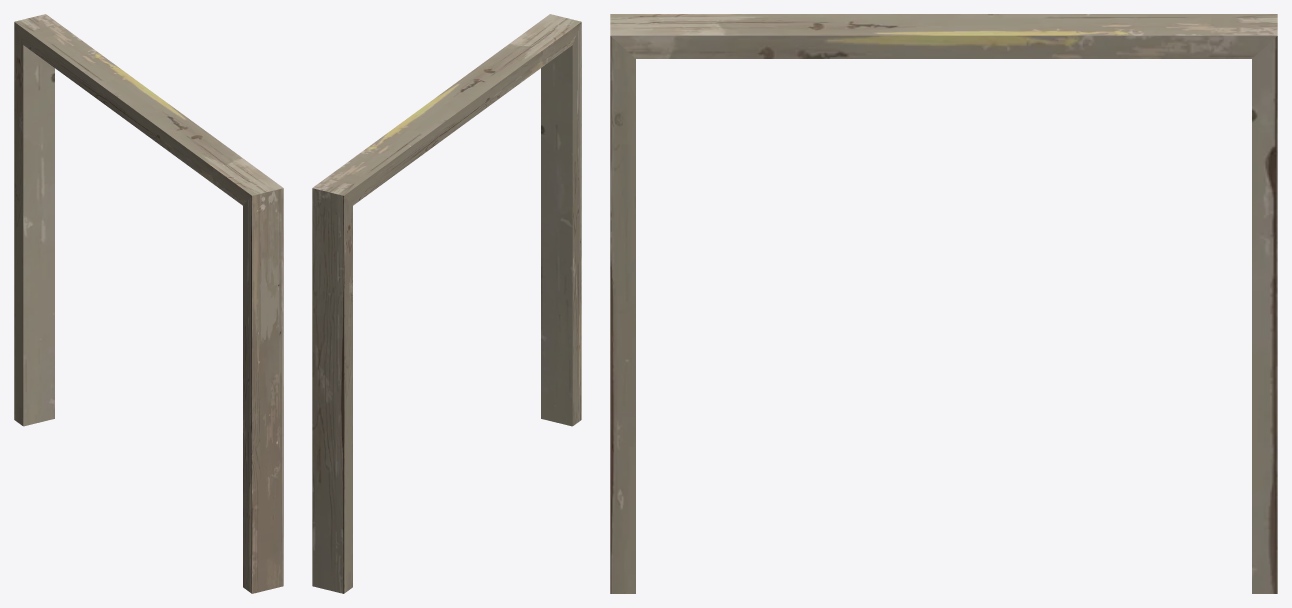
The picture shows the model from 3 angles, left to right: view 1: azimuth 30°, elevation 25°; view 2: azimuth 150°, elevation 25°; view 3: azimuth 270°, elevation 25°; orthographic projection. The views are drawn at different scales.
Visible parts, largest first — view 1: body0_model0_lod0_mesh0; view 2: body0_model0_lod0_mesh0; view 3: body0_model0_lod0_mesh0.
Part boxes in pixels (<box>): body0_model0_lod0_mesh0: <box>14,14,283,593</box>; body0_model0_lod0_mesh0: <box>312,14,581,593</box>; body0_model0_lod0_mesh0: <box>610,14,1277,593</box>.
Bounding box in the file's own units: 16 × 192 × 208.
Materials: 1 (1 with a texture image).
